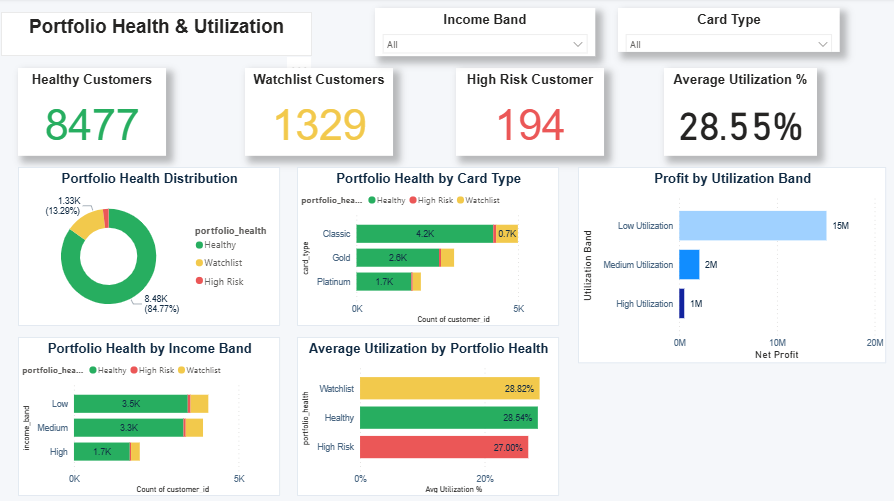

This screenshot's page, from the dashboard's own definition file:
{"tool":"powerbi","page":{"name":"Protfolio Health","canvas":[1280,720],"ordinal":3},"visuals":[{"type":"textbox","box":[9.9,19.8,439.1,62.1],"z":0},{"type":"card","title":"Healthy Customers","fields":{"Values":["Matrix.Healthy Customers"]},"box":[33.9,98.8,208.9,124.2],"z":1000},{"type":"card","title":"Watchlist Customers","fields":{"Values":["Matrix.Watchlist Customers"]},"box":[354.4,98.8,208.9,124.2],"z":2000},{"type":"card","title":"High Risk Customer","fields":{"Values":["Matrix.High Risk Customers"]},"box":[652.2,98.8,208.9,124.2],"z":3000},{"type":"card","title":"Average Utilization %","fields":{"Values":["Matrix.Avg Utilization %"]},"box":[945.9,98.8,216,124.2],"z":4000},{"type":"donutChart","title":"Portfolio Health Distribution","fields":{"Category":["delinquency.portfolio_health"],"Y":["CountNonNull(delinquency.customer_id)"]},"box":[33.9,238.6,369.9,224.5],"z":5000},{"type":"barChart","title":"Portfolio Health by Card Type","fields":{"Category":["cardholders.card_type"],"Series":["delinquency.portfolio_health"],"Y":["Count(delinquency.customer_id)"]},"box":[427.8,238.6,369.9,224.5],"z":6000},{"type":"barChart","title":"Portfolio Health by Income Band","fields":{"Category":["cardholders.income_band"],"Series":["delinquency.portfolio_health"],"Y":["Count(delinquency.customer_id)"]},"box":[33.9,478.6,369.9,224.5],"z":7000},{"type":"barChart","title":"Average Utilization by Portfolio Health","fields":{"Y":["Matrix.Avg Utilization %"],"Category":["delinquency.portfolio_health"]},"box":[427.8,478.6,369.9,224.5],"z":8000},{"type":"barChart","title":"Profit by Utilization Band","fields":{"Category":["billing.Utilization Band"],"Y":["Matrix.Net Profit"]},"box":[824.5,238.6,434.8,276.7],"z":9000},{"type":"slicer","title":"Income Band","fields":{"Values":["cardholders.income_band"]},"box":[537.9,14.1,310.6,67.8],"z":10000},{"type":"slicer","title":"Card Type","fields":{"Values":["cardholders.card_type"]},"box":[880.9,14.1,313.4,62.1],"z":11000}]}

Visuals, with their boxes in screenshot pixels (x1, y1, x2, y2), scaled from the page's 1280x720 canvas onto the 894x501 screenshot:
textbox: [left=7, top=14, right=314, bottom=57]
"Healthy Customers" card: [left=24, top=69, right=170, bottom=155]
"Watchlist Customers" card: [left=248, top=69, right=393, bottom=155]
"High Risk Customer" card: [left=456, top=69, right=601, bottom=155]
"Average Utilization %" card: [left=661, top=69, right=812, bottom=155]
"Portfolio Health Distribution" donutChart: [left=24, top=166, right=282, bottom=322]
"Portfolio Health by Card Type" barChart: [left=299, top=166, right=557, bottom=322]
"Portfolio Health by Income Band" barChart: [left=24, top=333, right=282, bottom=489]
"Average Utilization by Portfolio Health" barChart: [left=299, top=333, right=557, bottom=489]
"Profit by Utilization Band" barChart: [left=576, top=166, right=880, bottom=359]
"Income Band" slicer: [left=376, top=10, right=593, bottom=57]
"Card Type" slicer: [left=615, top=10, right=834, bottom=53]
